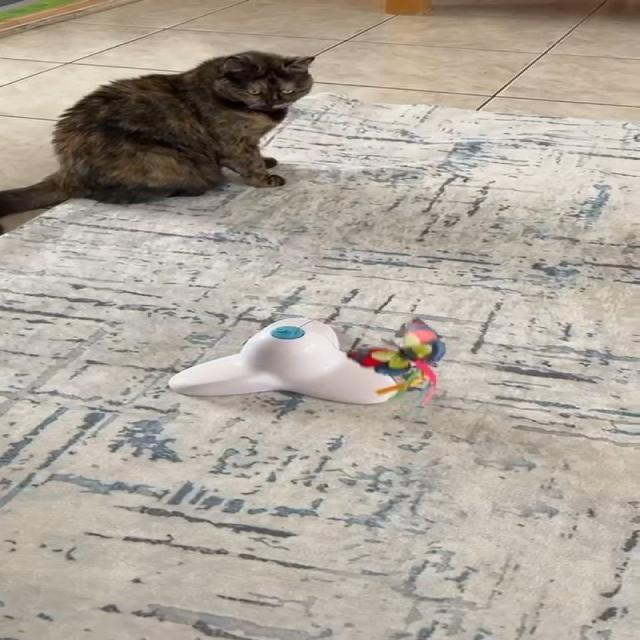authorized: (0, 49, 315, 230)
